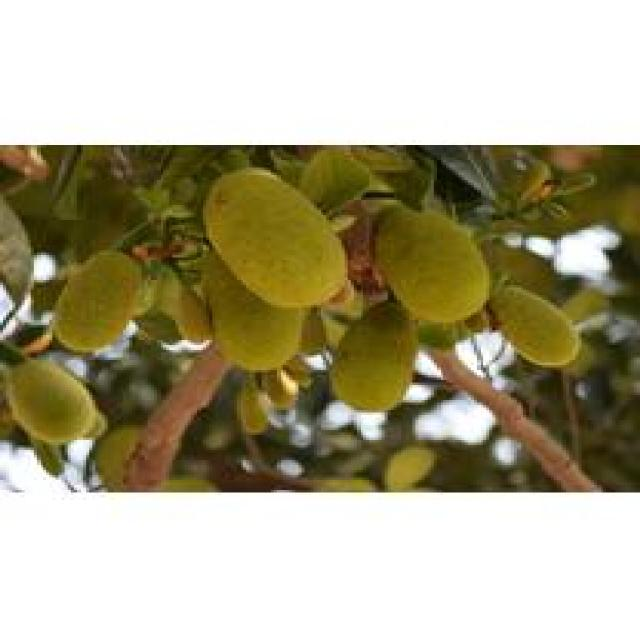Fruit: (191, 155, 357, 315), (360, 195, 498, 337), (40, 238, 154, 370)
